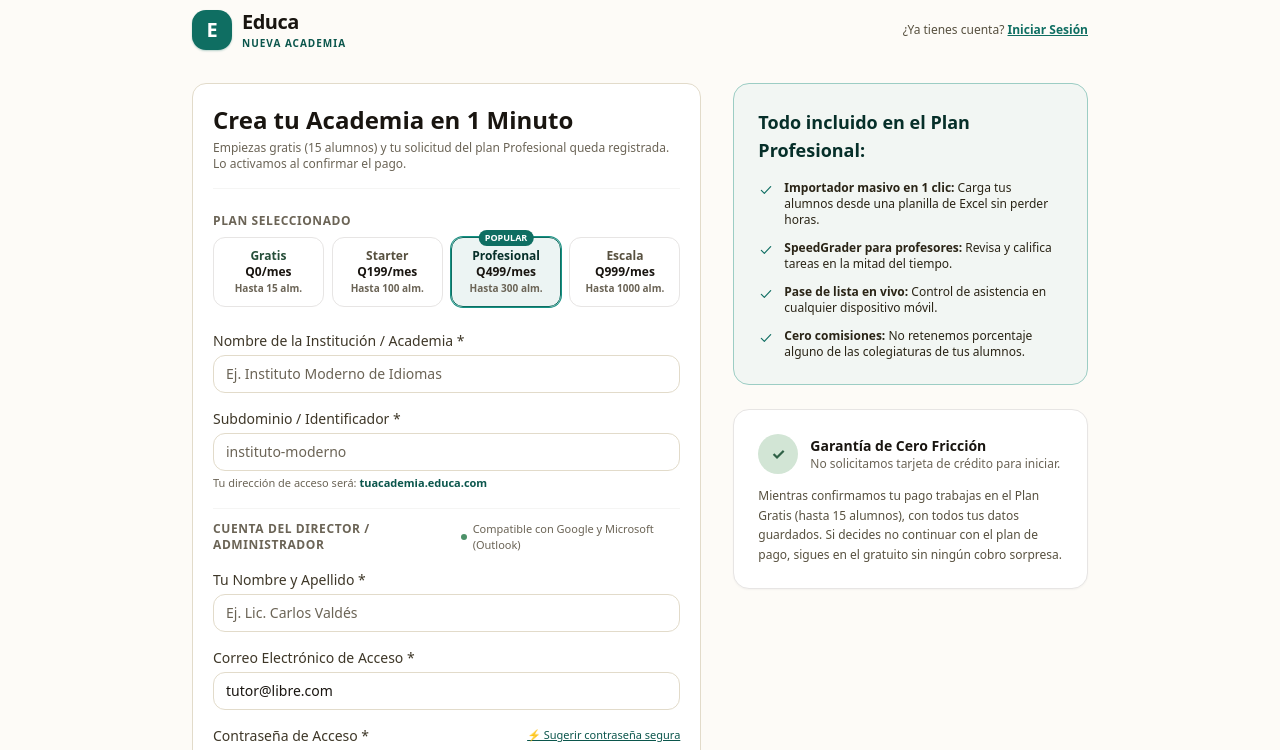
Scenario: RegisterAcademy › generates a secure password and toggles visibility
The image size is (1280, 750).
Click the button "⚡ Sugerir contraseña segura": [604, 736] box x1=527 y1=727 x2=680 y2=744
(page scrolled)
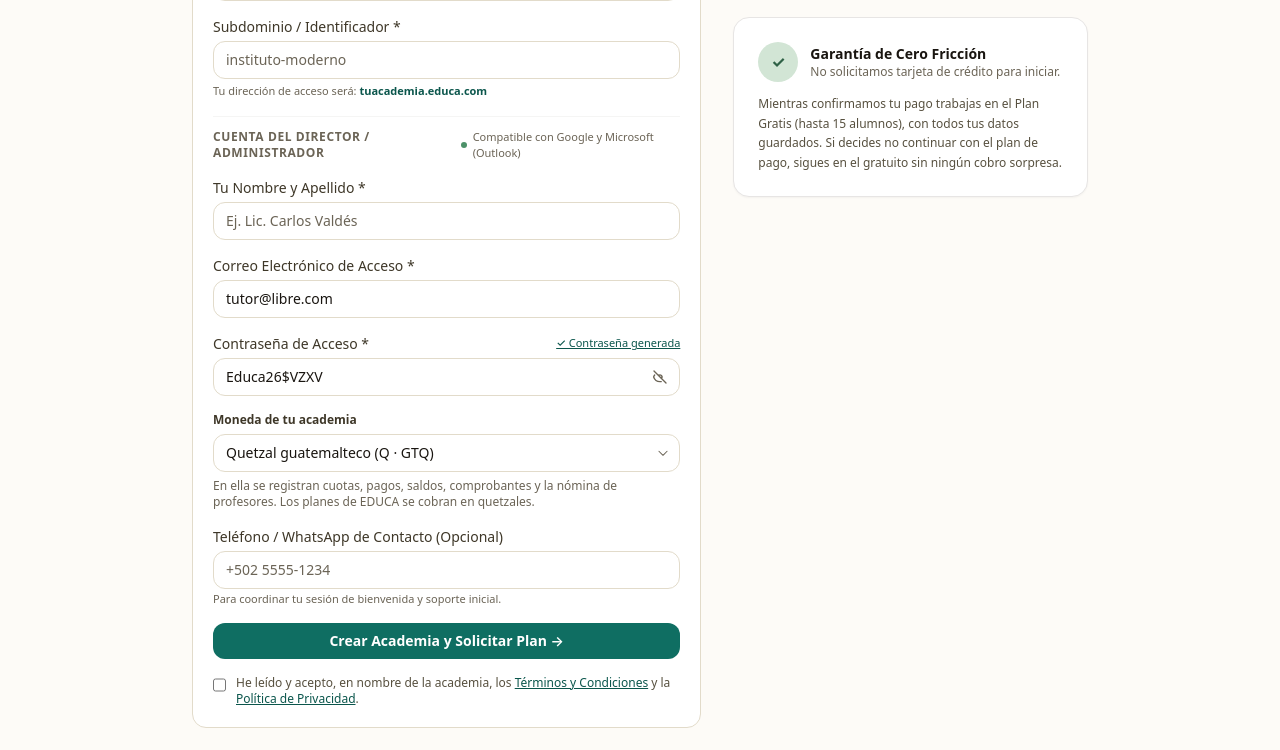
Result: the field with placeholder "Mínimo 8 caracteres" below "Contraseña de Acceso *" shows its text at x1=213 y1=358 x2=680 y2=396
Click the button named "Ocultar contraseña": [660, 376] box x1=652 y1=368 x2=668 y2=384
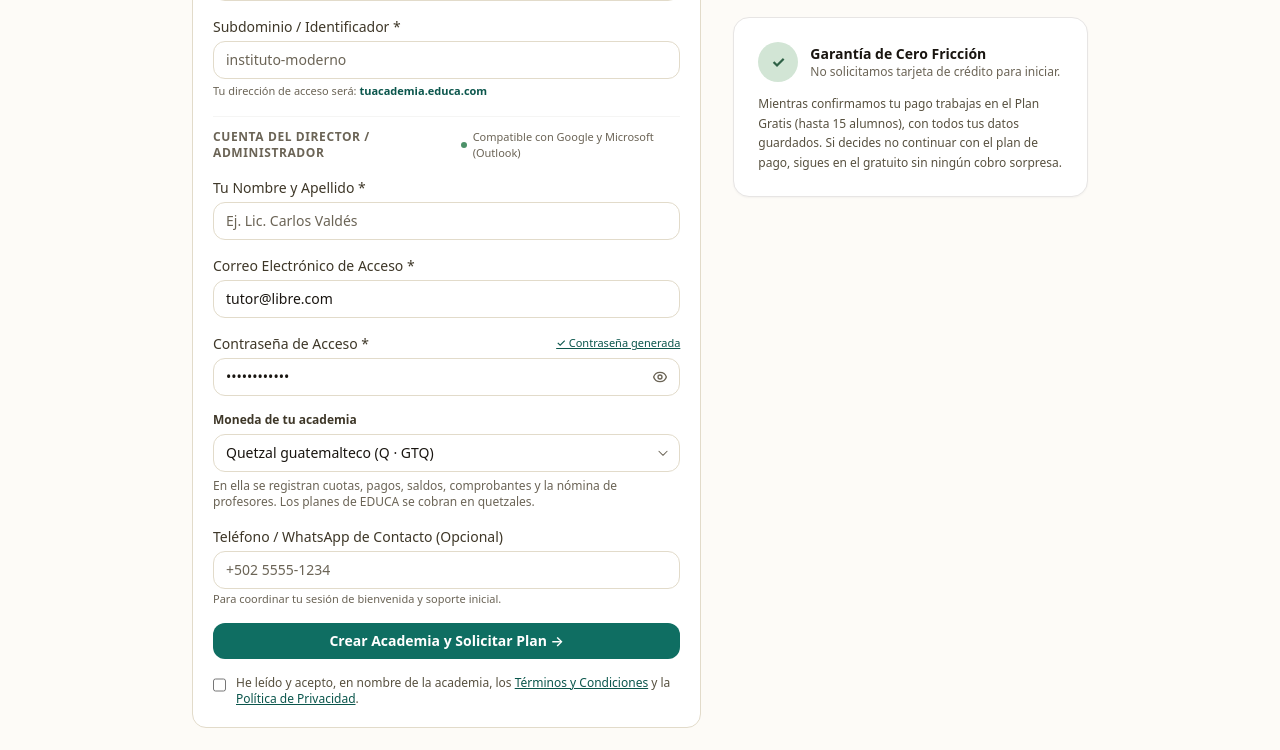
Result: the password field with placeholder "Mínimo 8 caracteres" hides its text at x1=213 y1=358 x2=680 y2=396
